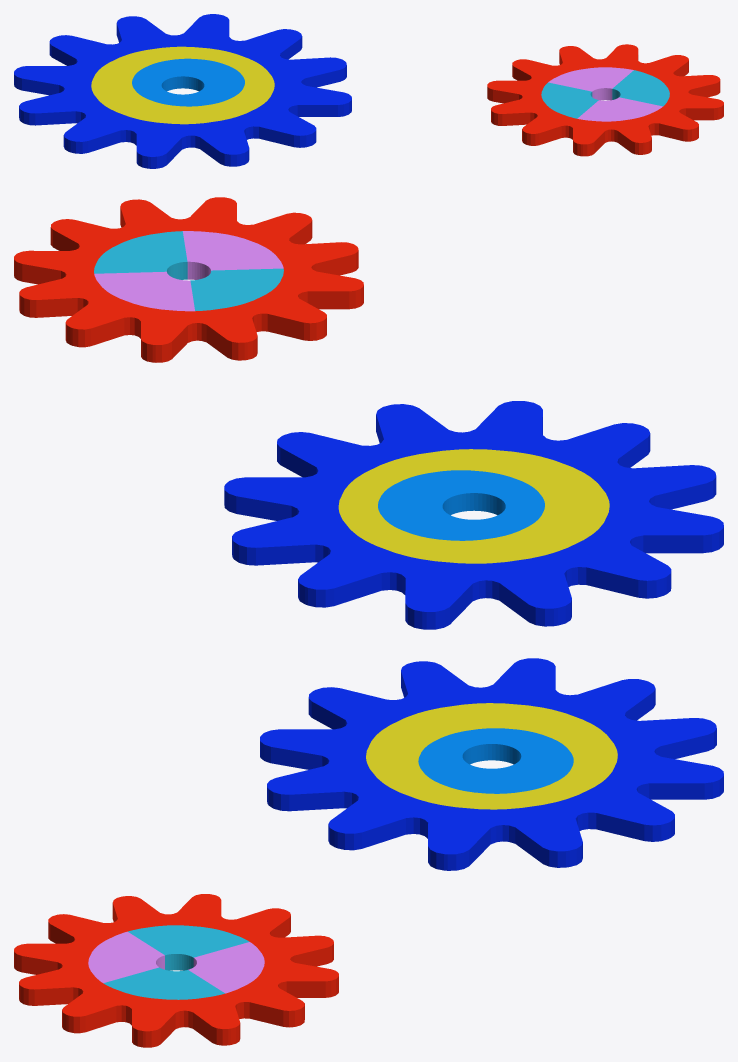
The model's file is gears.fbx.
3 views of the same model, one above another, from view 1: azimuth 30°, elevation 25°; view 2: azimuth 150°, elevation 25°; view 3: azimuth 270°, elevation 25° (orthographic). The views are drawn at different scales.
Visible parts, largest first — view 1: GearDN, GearDNSmall; view 2: GearDN, GearDNSmall; view 3: GearDN, GearDNSmall.
Boxes of the visible parts, x1=… form: GearDN: x1=14, y1=14, x2=351, y2=168; GearDNSmall: x1=487, y1=44, x2=723, y2=156; GearDN: x1=224, y1=401, x2=723, y2=629; GearDNSmall: x1=14, y1=197, x2=363, y2=362; GearDN: x1=260, y1=658, x2=723, y2=870; GearDNSmall: x1=14, y1=894, x2=338, y2=1047.
Size of the model in its own units: 525 by 10.84 by 422.
